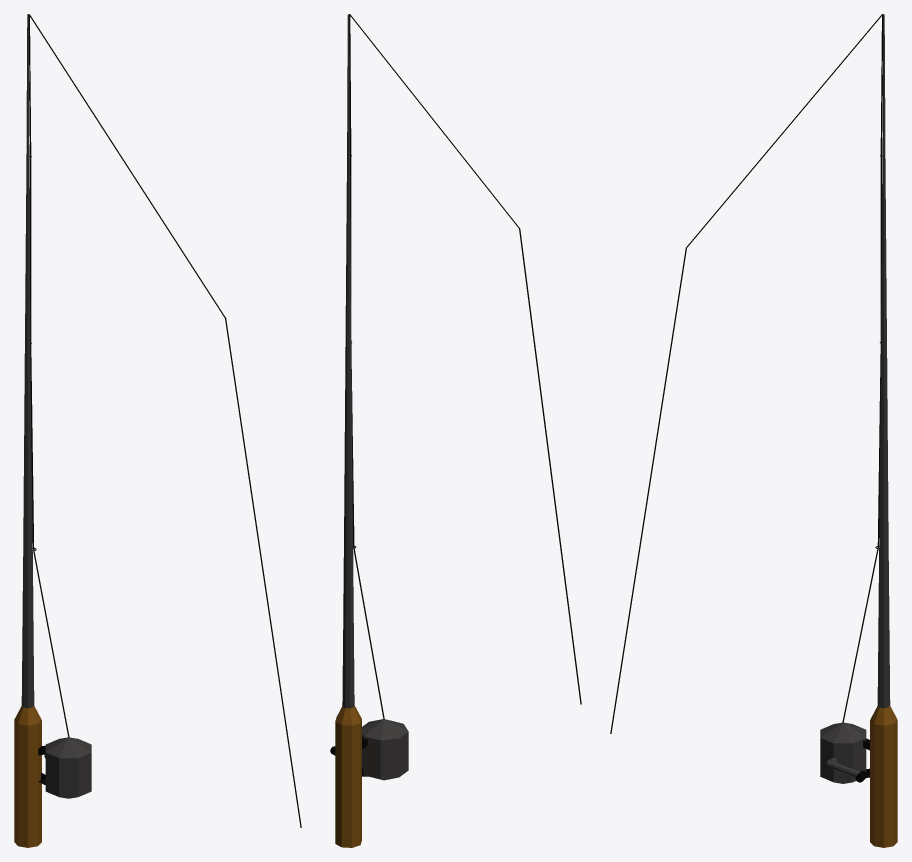
The model's file is fishingpole.glb.
3 renders of one model, left to right at view 1: azimuth 90°, elevation 25°; view 2: azimuth 150°, elevation 25°; view 3: azimuth 270°, elevation 25°, orthographic.
Parts seen in each view (by area): view 1: rod; view 2: rod; view 3: rod.
Boxes of the visible parts, x1=… form: rod: x1=14, y1=14, x2=301, y2=847; rod: x1=330, y1=14, x2=581, y2=847; rod: x1=610, y1=14, x2=897, y2=847.
Size of the model in its own units: 0.1475 by 0.9307 by 0.293.
